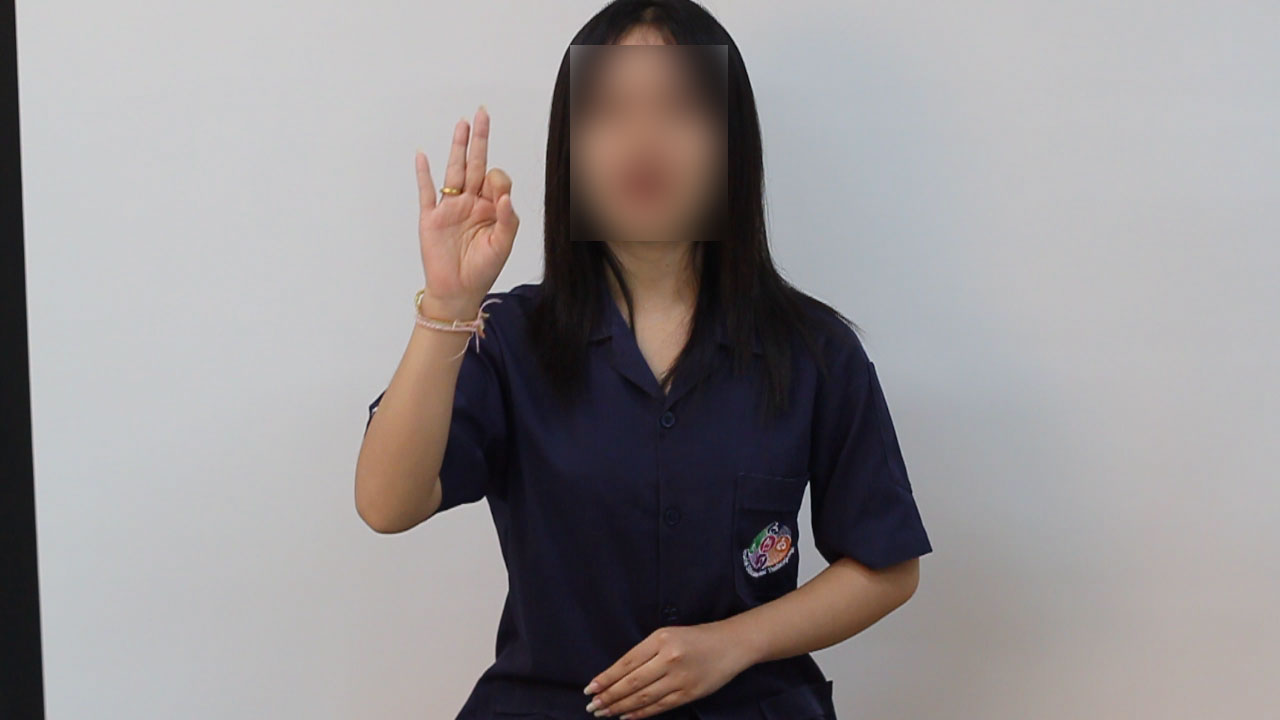for: (403, 96, 528, 310)
